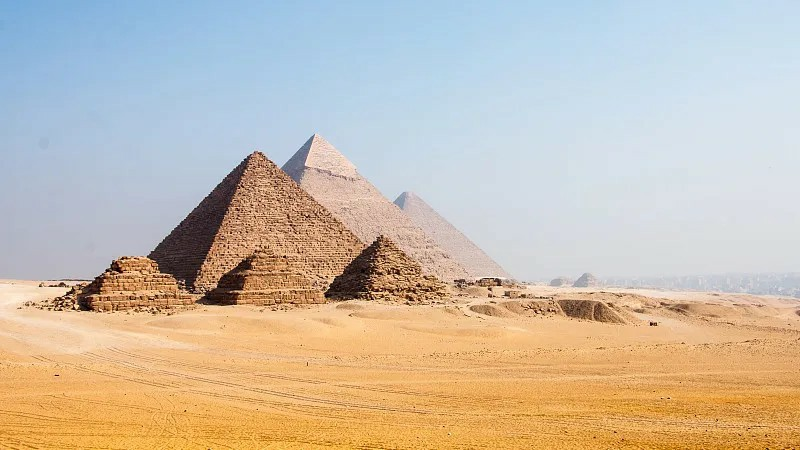Pyramid: (148, 150, 370, 296), (279, 133, 474, 286), (395, 192, 517, 284), (329, 239, 454, 302), (73, 256, 200, 314), (201, 251, 328, 306)
